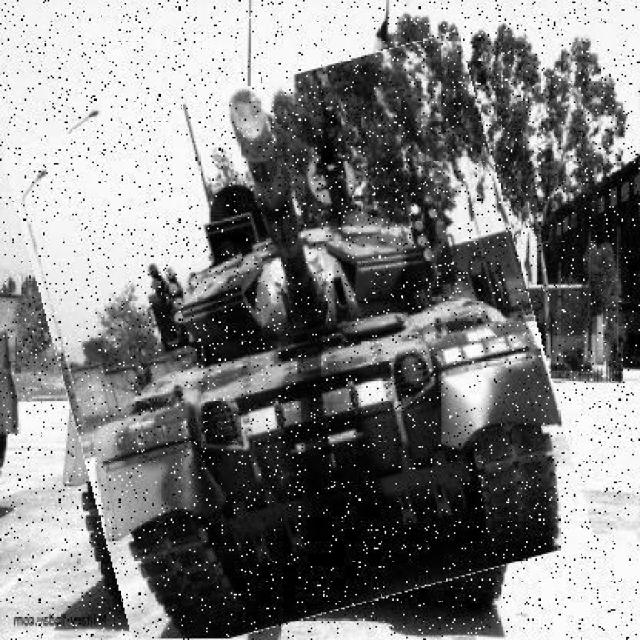Tank: (33, 58, 564, 638)
